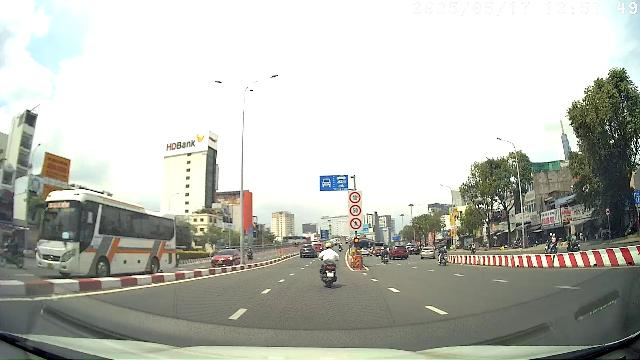127-toc-do-toi-da-50: (349, 205, 361, 217)
